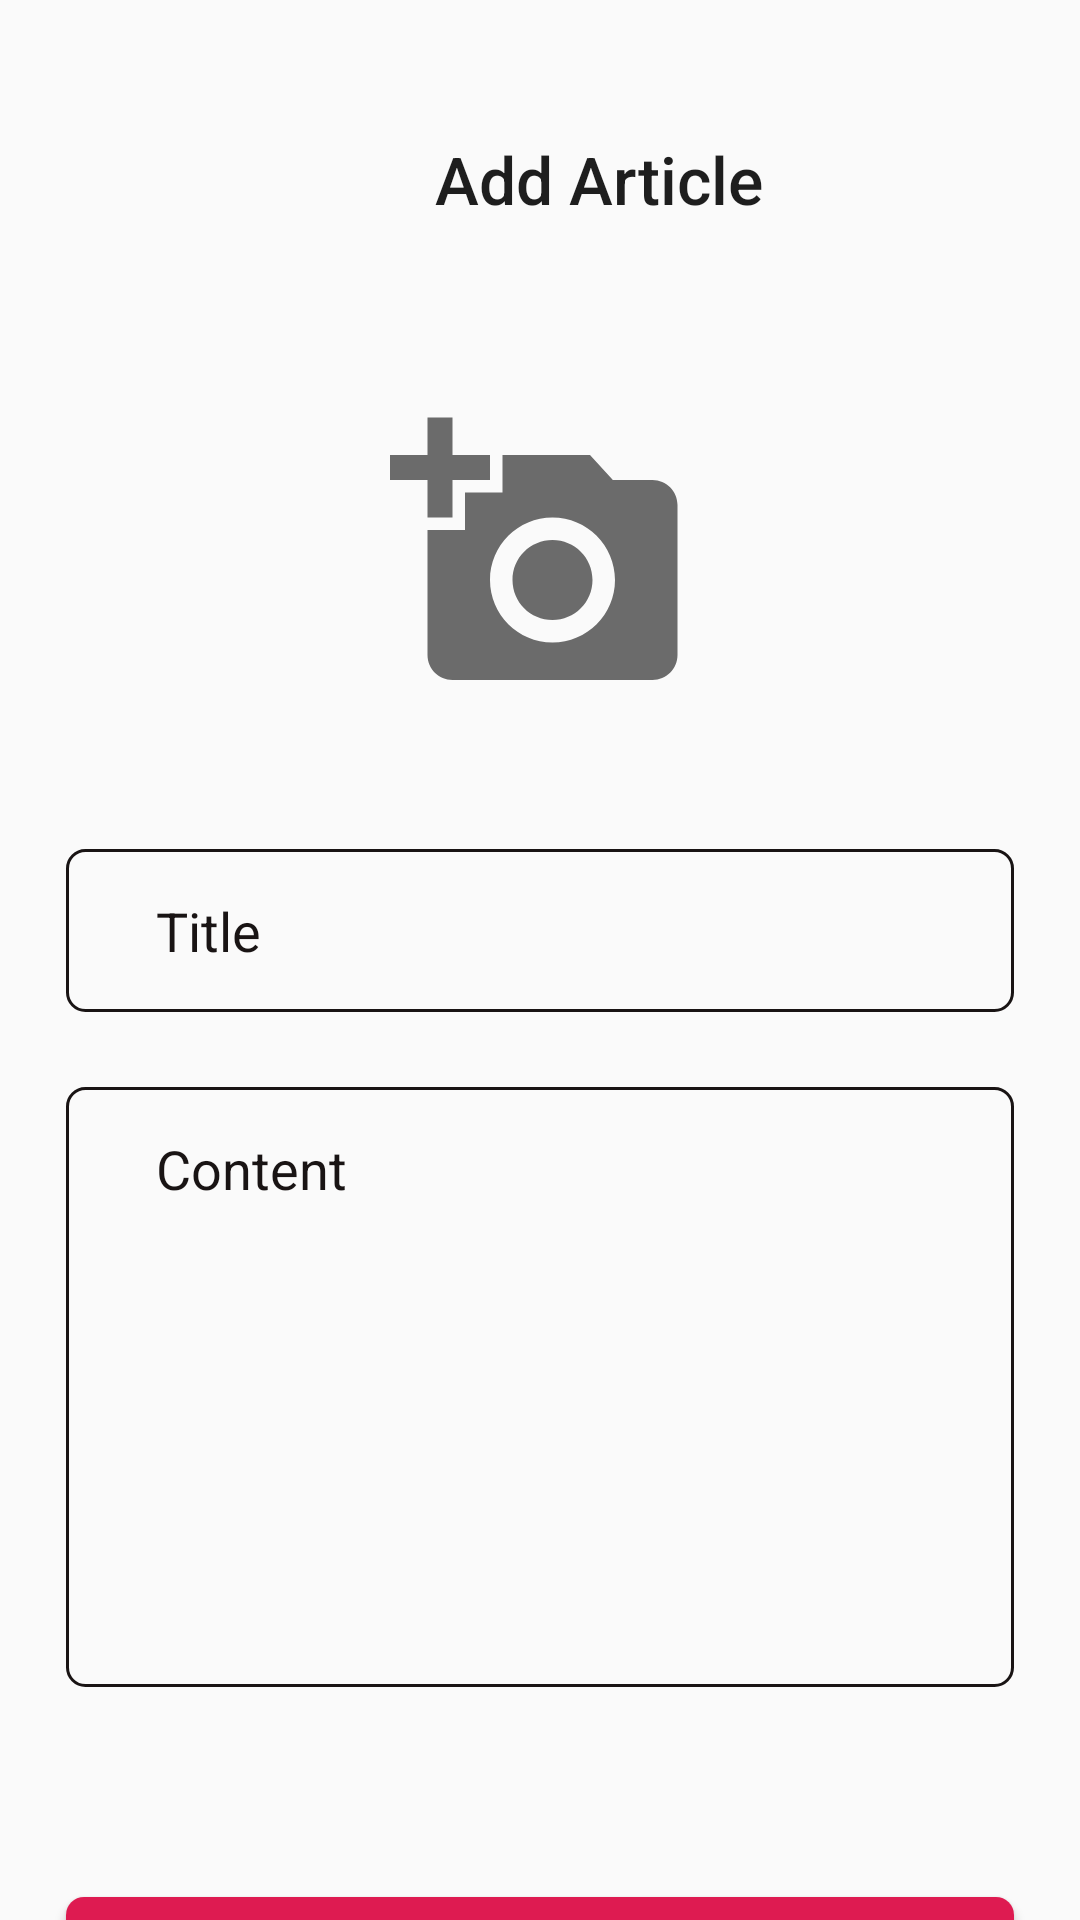

Icons on this 1080px×1920px Android screen, each with the point to tap as point (x, y):
add photo: point (534, 548)
